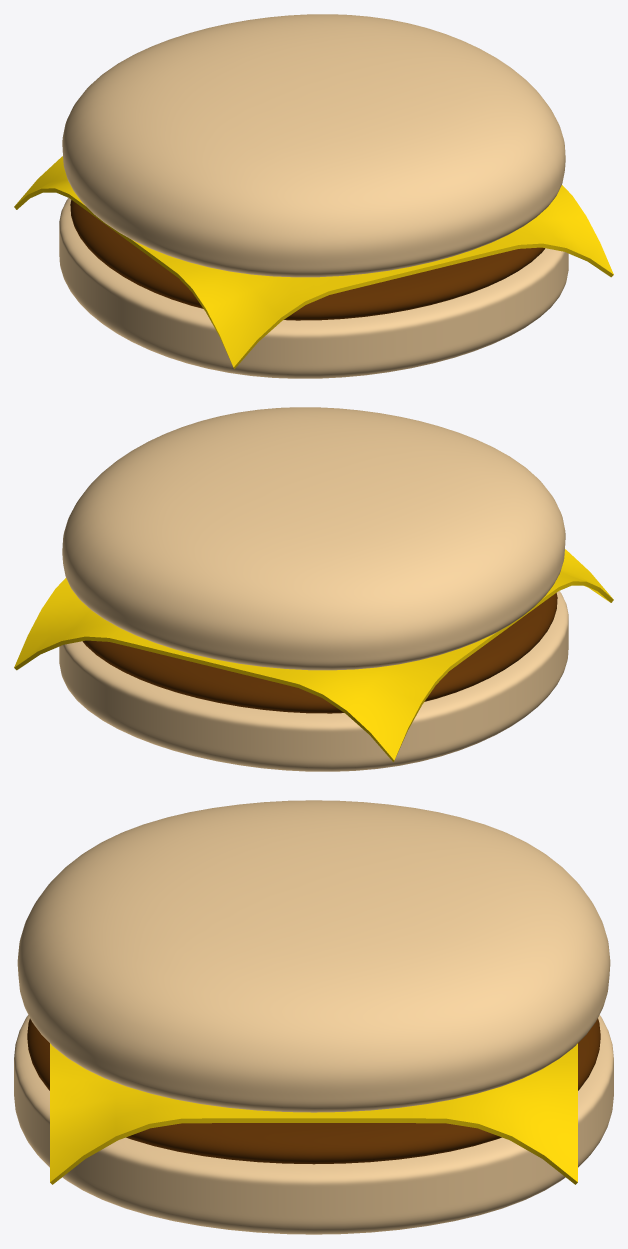
File: hamburger.glb
3 renders of one model, top to bottom at view 1: azimuth 30°, elevation 25°; view 2: azimuth 150°, elevation 25°; view 3: azimuth 270°, elevation 25°, orthographic. The views are drawn at different scales.
Visible parts, largest first — view 1: TopBun, BottomBun, Cheese, Pat; view 2: TopBun, BottomBun, Cheese, Pat; view 3: TopBun, BottomBun, Cheese, Pat.
Boxes of the visible parts, box(x1,y1,x2,y2) form: TopBun: box(62, 14, 565, 277); BottomBun: box(59, 198, 568, 378); Cheese: box(14, 156, 613, 368); Pat: box(70, 200, 544, 320); TopBun: box(62, 407, 565, 670); BottomBun: box(59, 591, 568, 771); Cheese: box(14, 549, 613, 761); Pat: box(83, 593, 557, 713); TopBun: box(17, 800, 610, 1112); BottomBun: box(14, 1015, 613, 1234); Cheese: box(50, 1043, 577, 1184); Pat: box(27, 1018, 600, 1164).
Bounding box in the file's own units: 9.18 × 4.37 × 9.18.
